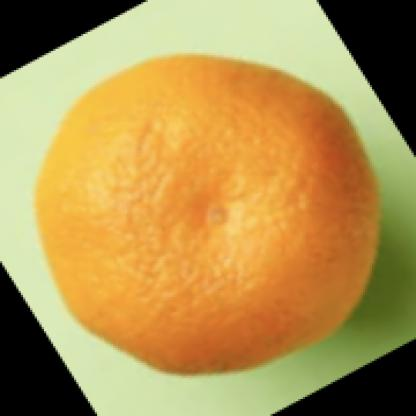orange: (27, 52, 385, 372)
